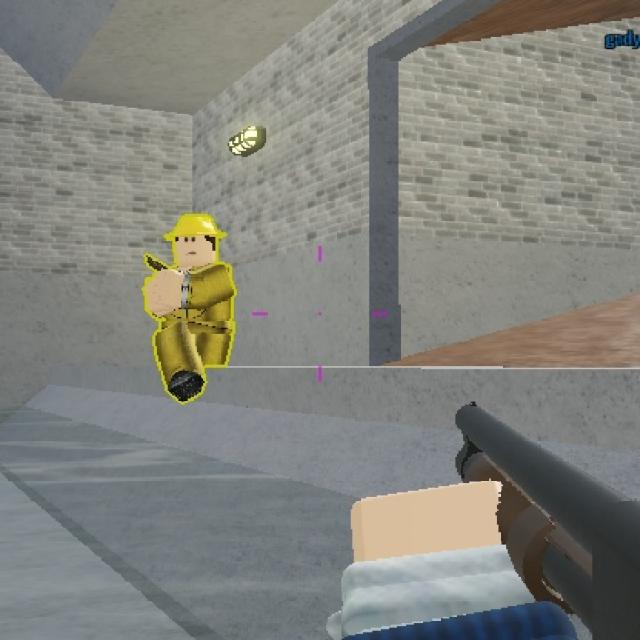player: (156, 197, 237, 391)
